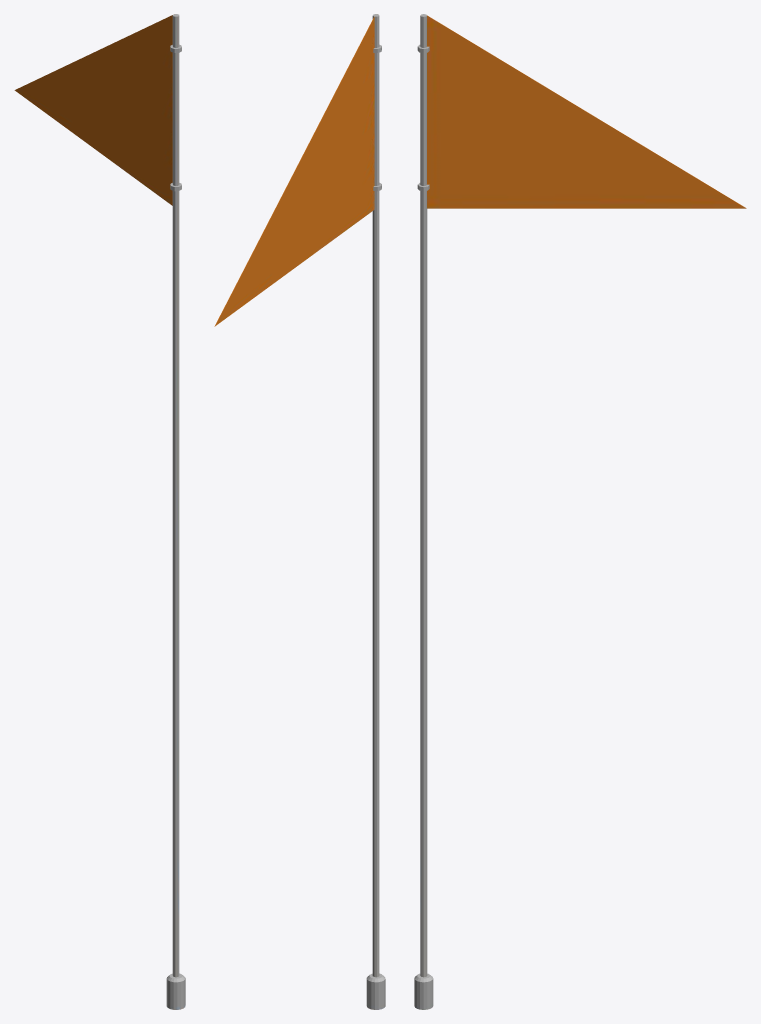
File: blueboat_flag.visual.glb
3 renders of one model, left to right at view 1: azimuth 30°, elevation 25°; view 2: azimuth 150°, elevation 25°; view 3: azimuth 270°, elevation 25°, orthographic.
Parts seen in each view (by area): view 1: blueboat_flag.visual.001; view 2: blueboat_flag.visual.001; view 3: blueboat_flag.visual.001.
Part boxes in pixels (box(x1,y1,x2,y2)): blueboat_flag.visual.001: box(14, 14, 185, 1009); blueboat_flag.visual.001: box(214, 14, 385, 1009); blueboat_flag.visual.001: box(414, 14, 746, 1009).
Size of the model in its own units: 0.0174 by 1 by 0.3054.
Materials: 1 (1 with a texture image).
